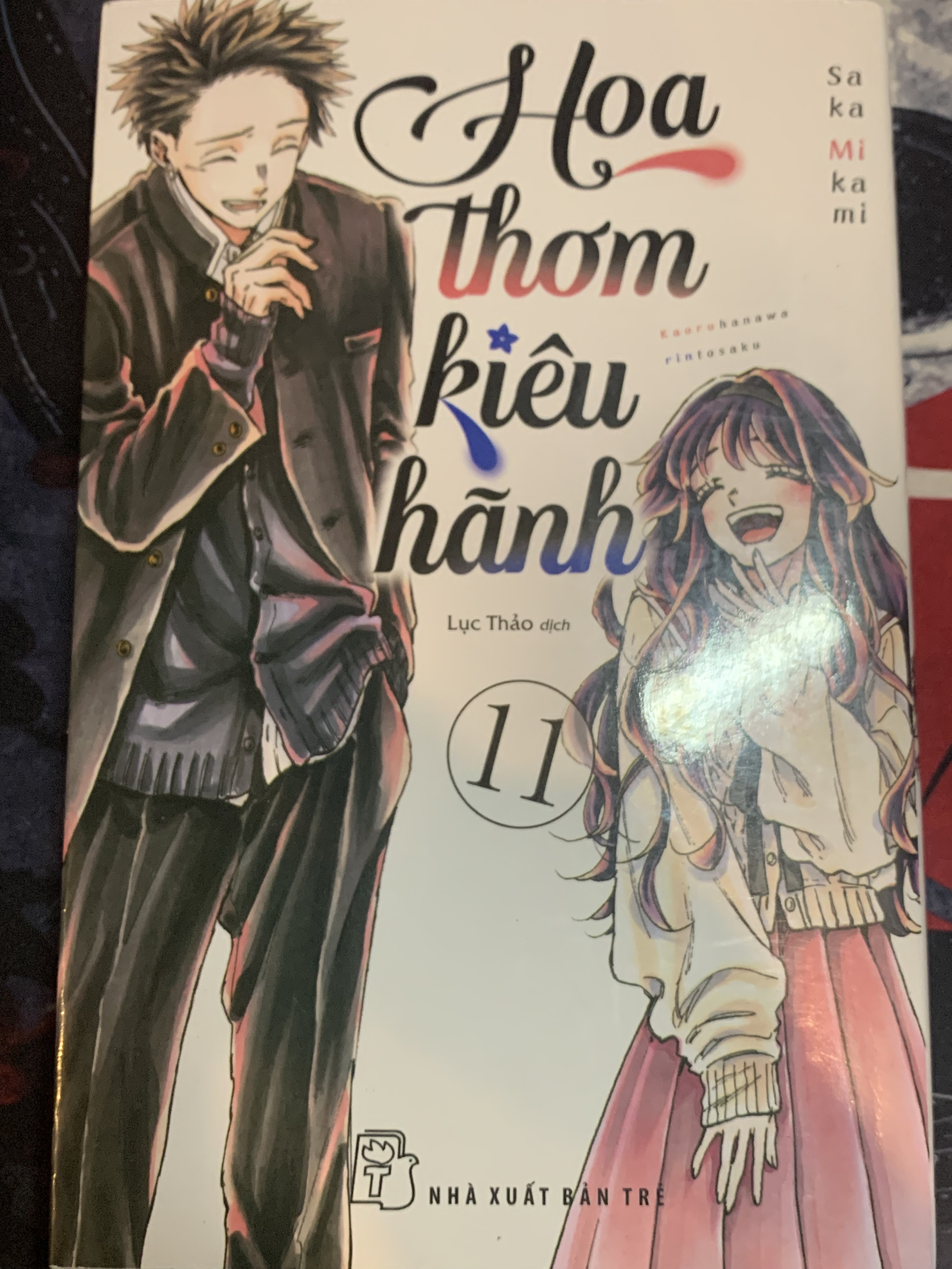bia_sach: (83, 9, 946, 1251)
logo_nxb: (326, 1116, 693, 1234)
so_tap: (429, 672, 616, 832)
ten_sach: (309, 31, 746, 588)
